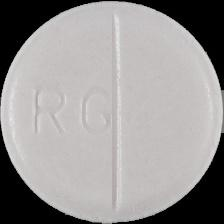53808-0929: (0, 0, 224, 224)
